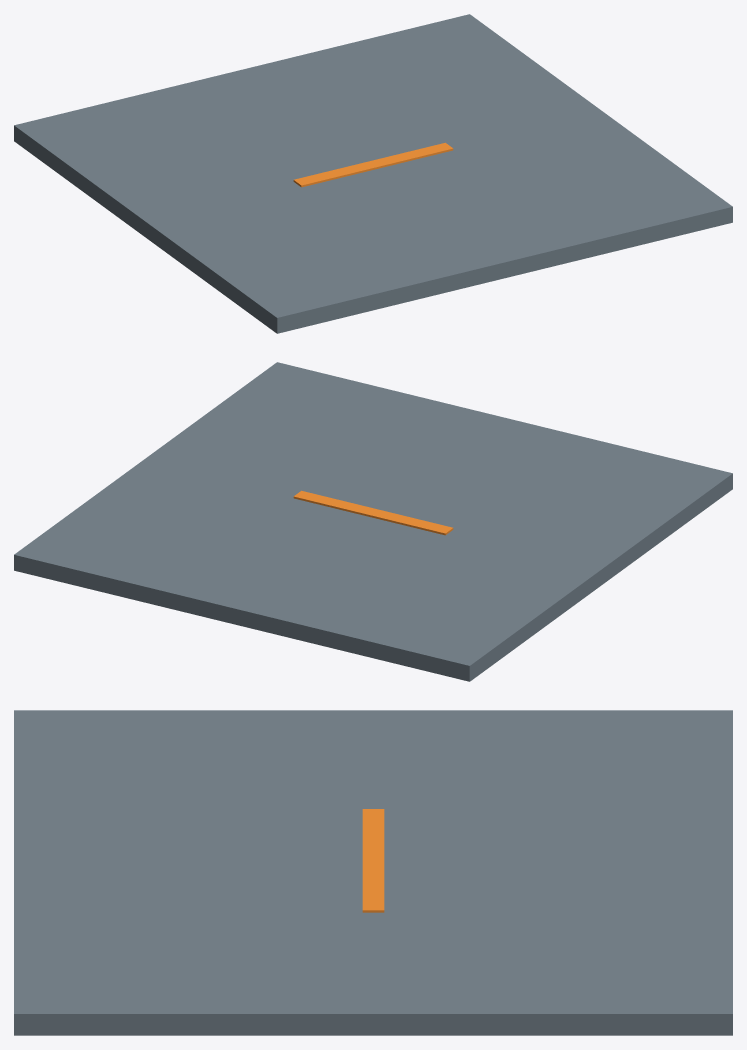
The model's file is base-CeilingSquare.fbx.
3 views of the same model, one above another, from view 1: azimuth 30°, elevation 25°; view 2: azimuth 150°, elevation 25°; view 3: azimuth 270°, elevation 25° (orthographic). The views are drawn at different scales.
Visible parts, largest first — view 1: CeilingSquare.001, base-CeilingSquare_Deck marking.001; view 2: CeilingSquare.001, base-CeilingSquare_Deck marking.001; view 3: CeilingSquare.001, base-CeilingSquare_Deck marking.001.
Boxes of the visible parts, left/top/right/bottom form: CeilingSquare.001: left=14, top=14, right=732, bottom=333; base-CeilingSquare_Deck marking.001: left=293, top=142, right=453, bottom=187; CeilingSquare.001: left=14, top=362, right=732, bottom=681; base-CeilingSquare_Deck marking.001: left=293, top=490, right=453, bottom=535; CeilingSquare.001: left=14, top=710, right=732, bottom=1035; base-CeilingSquare_Deck marking.001: left=362, top=809, right=384, bottom=912.
Bounding box in the file's own units: 300 × 11.2 × 300.
